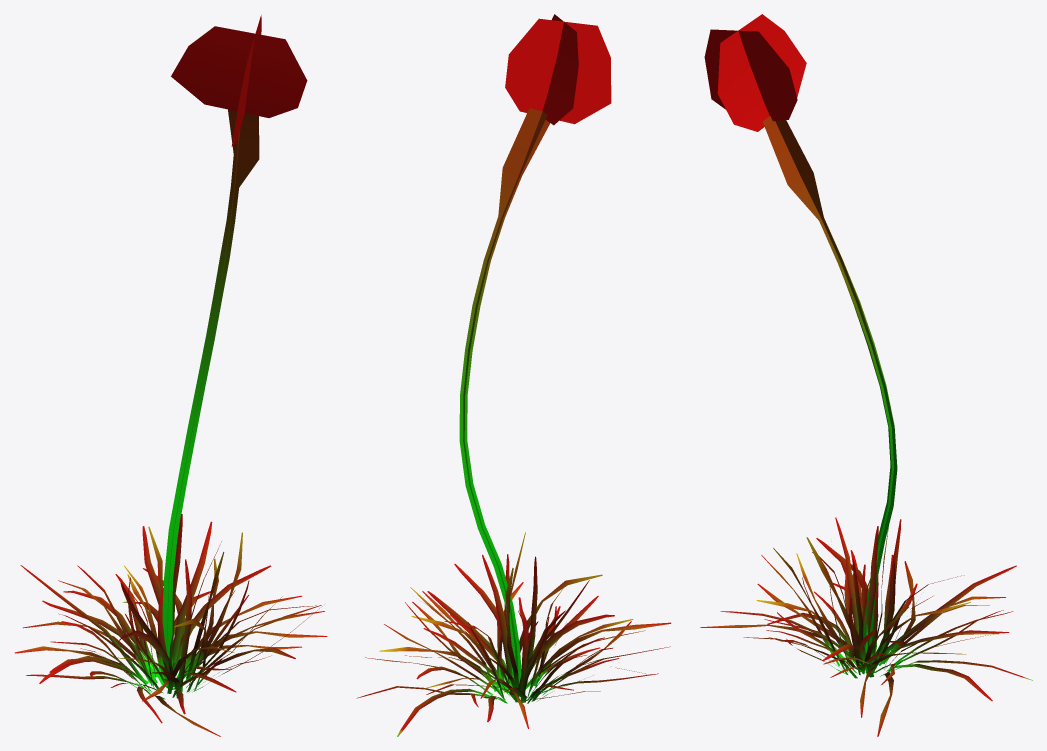
File: Var10_LOD1.fbx
3 views of the same model, side by side, from view 1: azimuth 30°, elevation 25°; view 2: azimuth 150°, elevation 25°; view 3: azimuth 270°, elevation 25° (orthographic). The views are drawn at different scales.
Parts seen in each view (by area): view 1: _lep8_Var10_LOD1; view 2: _lep8_Var10_LOD1; view 3: _lep8_Var10_LOD1.
Part boxes in pixels (bbox=[...]): _lep8_Var10_LOD1: bbox=[14, 15, 327, 736]; _lep8_Var10_LOD1: bbox=[356, 14, 671, 736]; _lep8_Var10_LOD1: bbox=[700, 14, 1032, 736].
Size of the model in its own units: 8.01 by 17.14 by 7.93.
